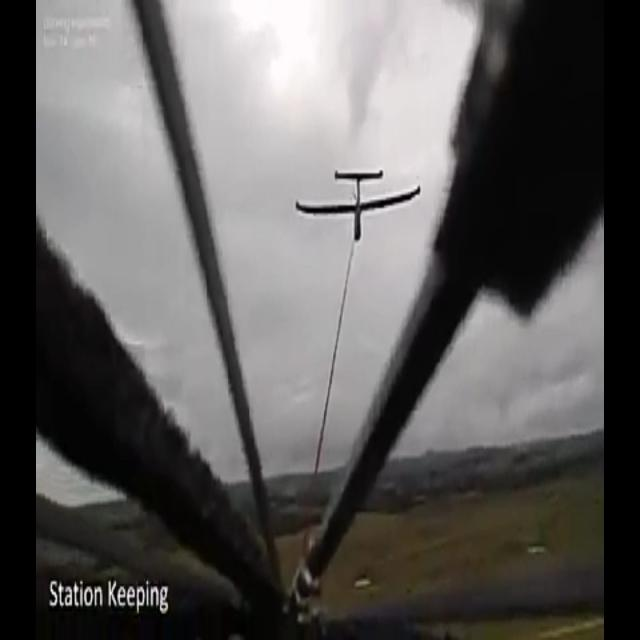iha: (327, 200, 389, 213)
